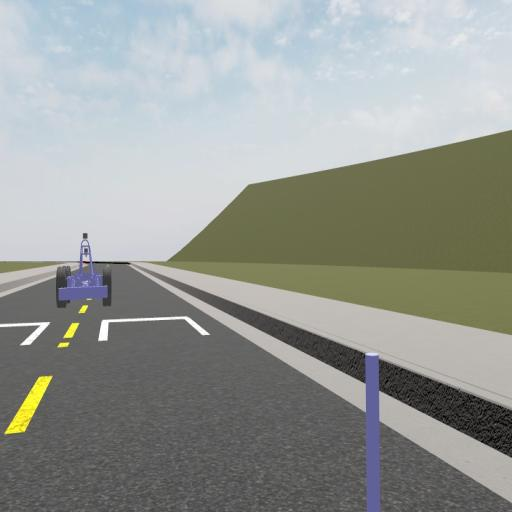ERP-42: (56, 235, 114, 306)
